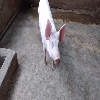heo: (41, 18, 69, 68)
